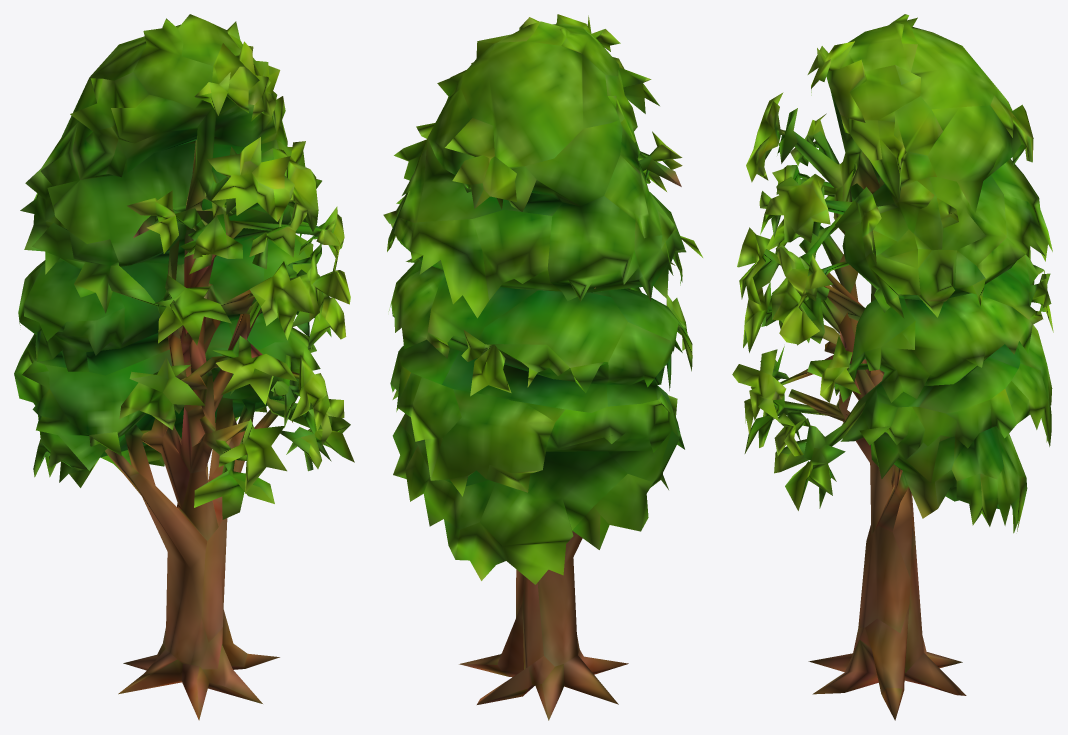
The model's file is tall.glb.
3 renders of one model, left to right at view 1: azimuth 30°, elevation 25°; view 2: azimuth 150°, elevation 25°; view 3: azimuth 270°, elevation 25°, orthographic.
Visible parts, largest first — view 1: tripo_node_826cf9af-df21-4938-86aa-7a4d07ea4004; view 2: tripo_node_826cf9af-df21-4938-86aa-7a4d07ea4004; view 3: tripo_node_826cf9af-df21-4938-86aa-7a4d07ea4004.
Part boxes in pixels (<box>): tripo_node_826cf9af-df21-4938-86aa-7a4d07ea4004: <box>14,14,354,720</box>; tripo_node_826cf9af-df21-4938-86aa-7a4d07ea4004: <box>383,14,702,720</box>; tripo_node_826cf9af-df21-4938-86aa-7a4d07ea4004: <box>732,14,1053,720</box>.
Bounding box in the file's own units: 0.4476 × 1 × 0.443.
1 material, 1 textured.
